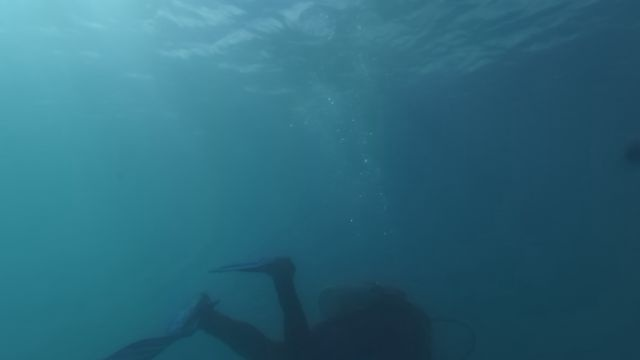Diver: (87, 251, 463, 358)
